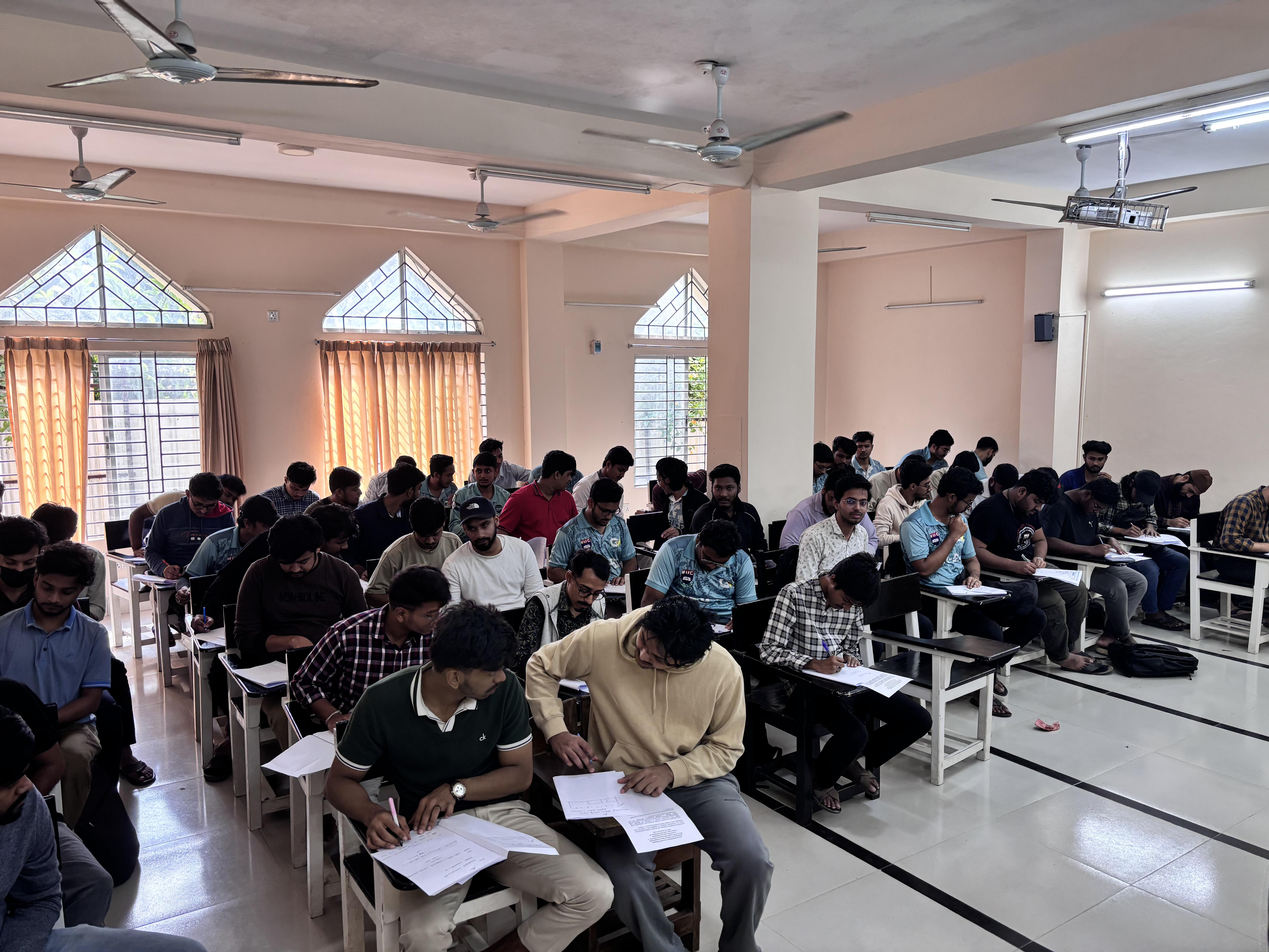copying: (899, 471, 1058, 670), (331, 571, 452, 717), (507, 451, 582, 541), (640, 454, 710, 546), (911, 421, 1013, 477)
no_cheating: (770, 565, 896, 737), (4, 565, 113, 724), (235, 518, 344, 675), (1044, 472, 1138, 647), (649, 511, 762, 627), (554, 479, 647, 596), (517, 547, 619, 646), (1093, 465, 1175, 566), (153, 478, 226, 589), (1164, 462, 1220, 542), (587, 438, 644, 512), (0, 505, 43, 601), (267, 457, 327, 516), (812, 442, 833, 501)
side_talking: (355, 627, 580, 916), (568, 604, 734, 871), (360, 461, 431, 547), (455, 456, 507, 509)
suspicious_moving: (796, 479, 889, 582), (450, 496, 529, 610), (689, 451, 768, 545), (880, 452, 939, 520), (119, 478, 256, 507), (313, 464, 377, 517), (1062, 422, 1109, 493), (830, 425, 881, 481)
